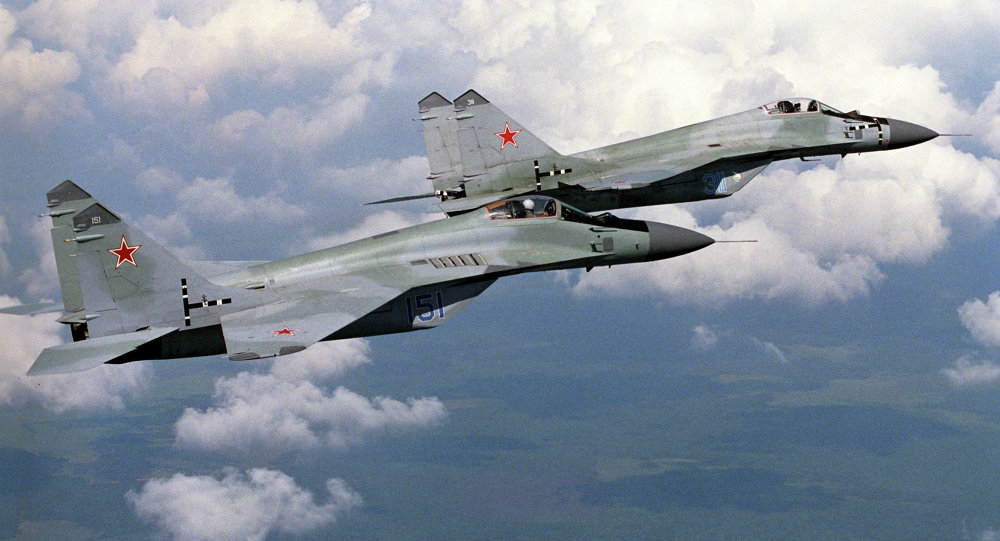Mig-29: (32, 148, 719, 361), (396, 61, 956, 214)
